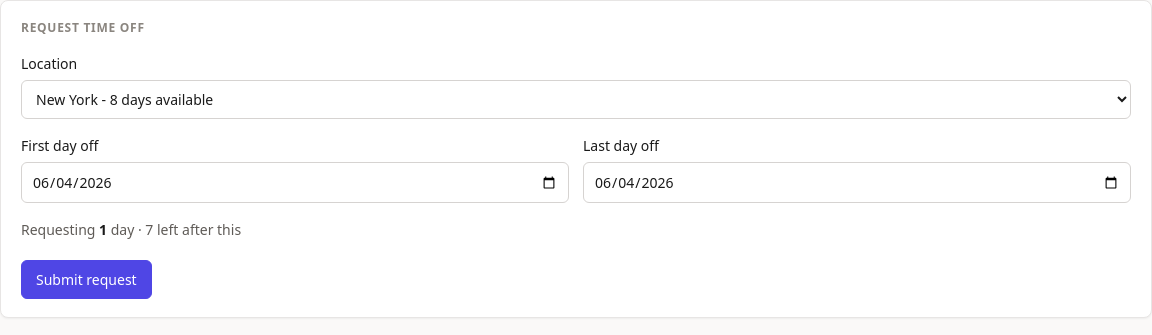
Test: RequestFormView remaining branches › shows the 'left after this' summary line for a valid in-budget range
Step 1. Type "2026-08-01" into the date field labelled "First day off" → (295, 182), box x1=21 y1=162 x2=569 y2=203
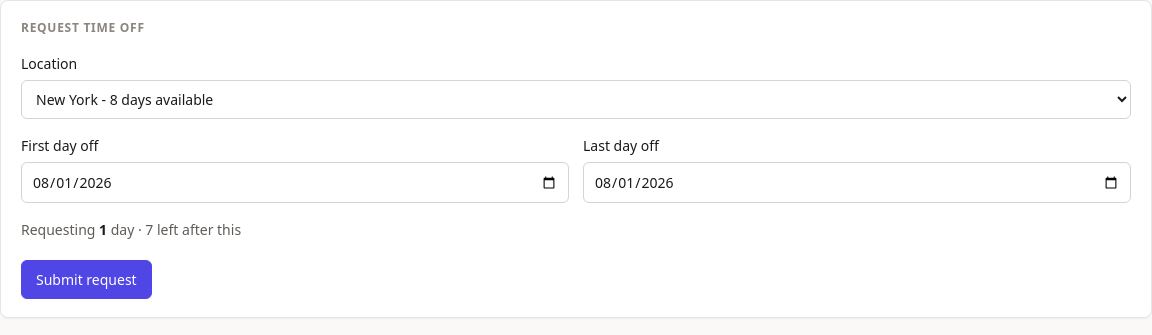
Step 2. Type "2026-08-03" into the date field labelled "Last day off" → (857, 182), box x1=583 y1=162 x2=1131 y2=203
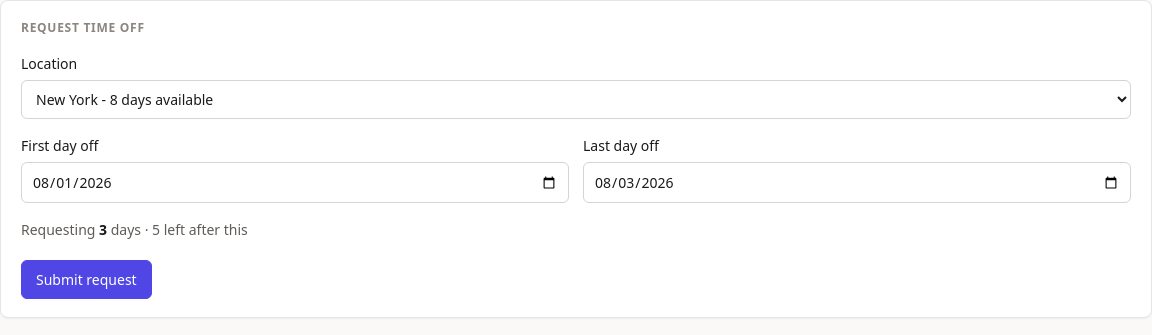
Expected: the text "Requesting 3 days · 5 left after this" is shown, x1=21 y1=220 x2=248 y2=239
